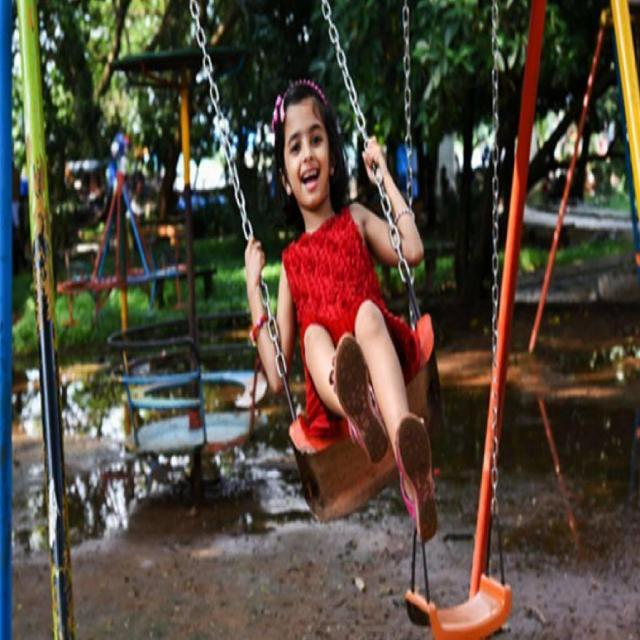child: (234, 75, 442, 551)
